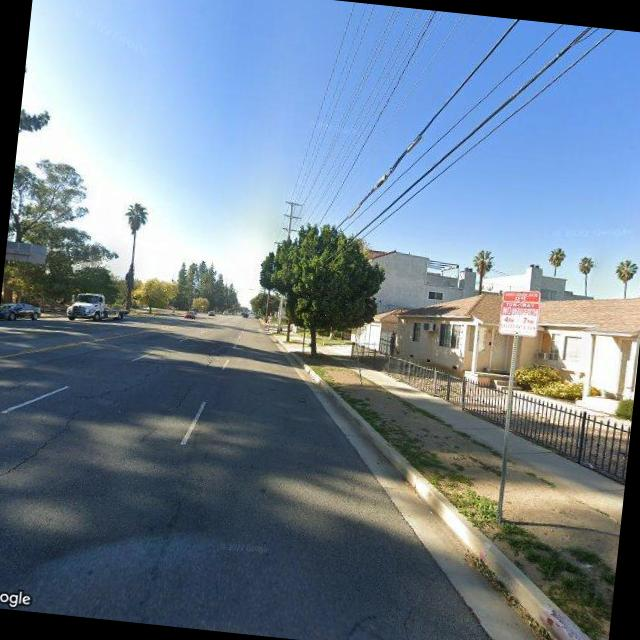crack: (0, 400, 76, 515), (169, 377, 194, 413)
